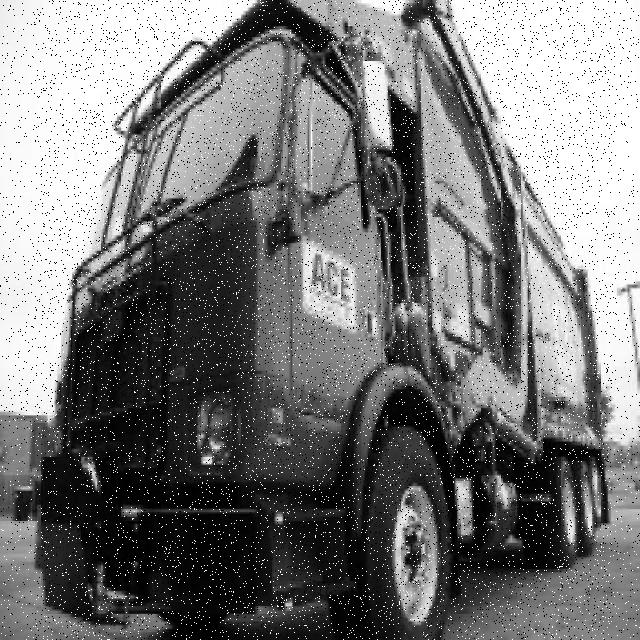Garbage Truck: (35, 0, 612, 640)
